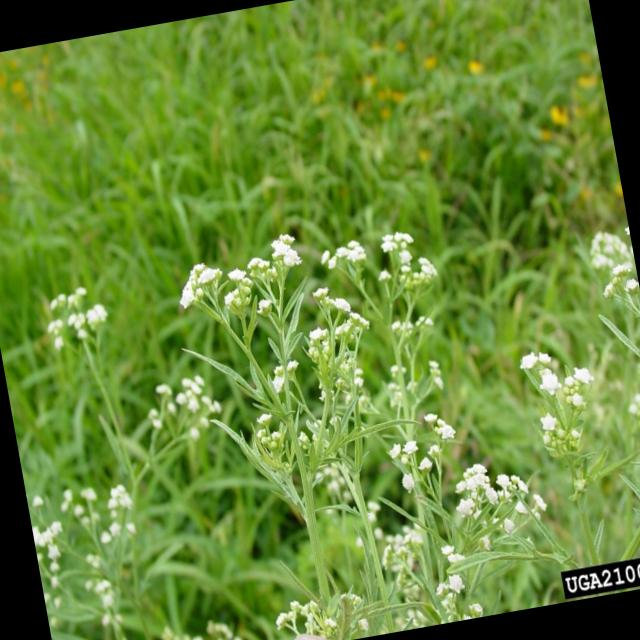Poisonous-Parthenium: (112, 177, 546, 640), (0, 267, 195, 640), (498, 222, 640, 556)
